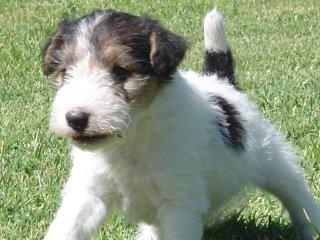wire-haired_fox_terrier: (33, 3, 319, 239)
